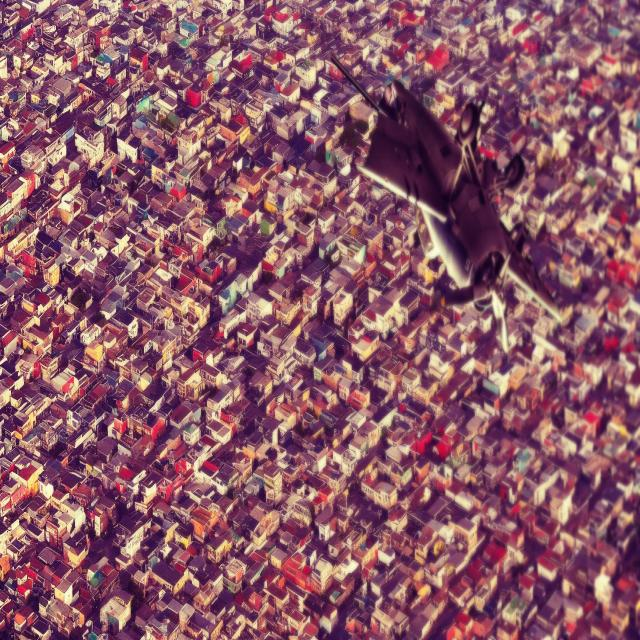airplane: (330, 51, 564, 361)
